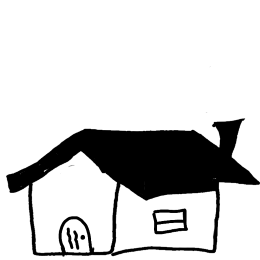bottom_placed_house: (3, 1, 260, 260)
chimney: (211, 106, 255, 163)
closed_window: (149, 203, 194, 238)
door: (54, 207, 99, 260)
shaded_roof: (6, 92, 260, 199)
wall: (24, 143, 125, 260)
